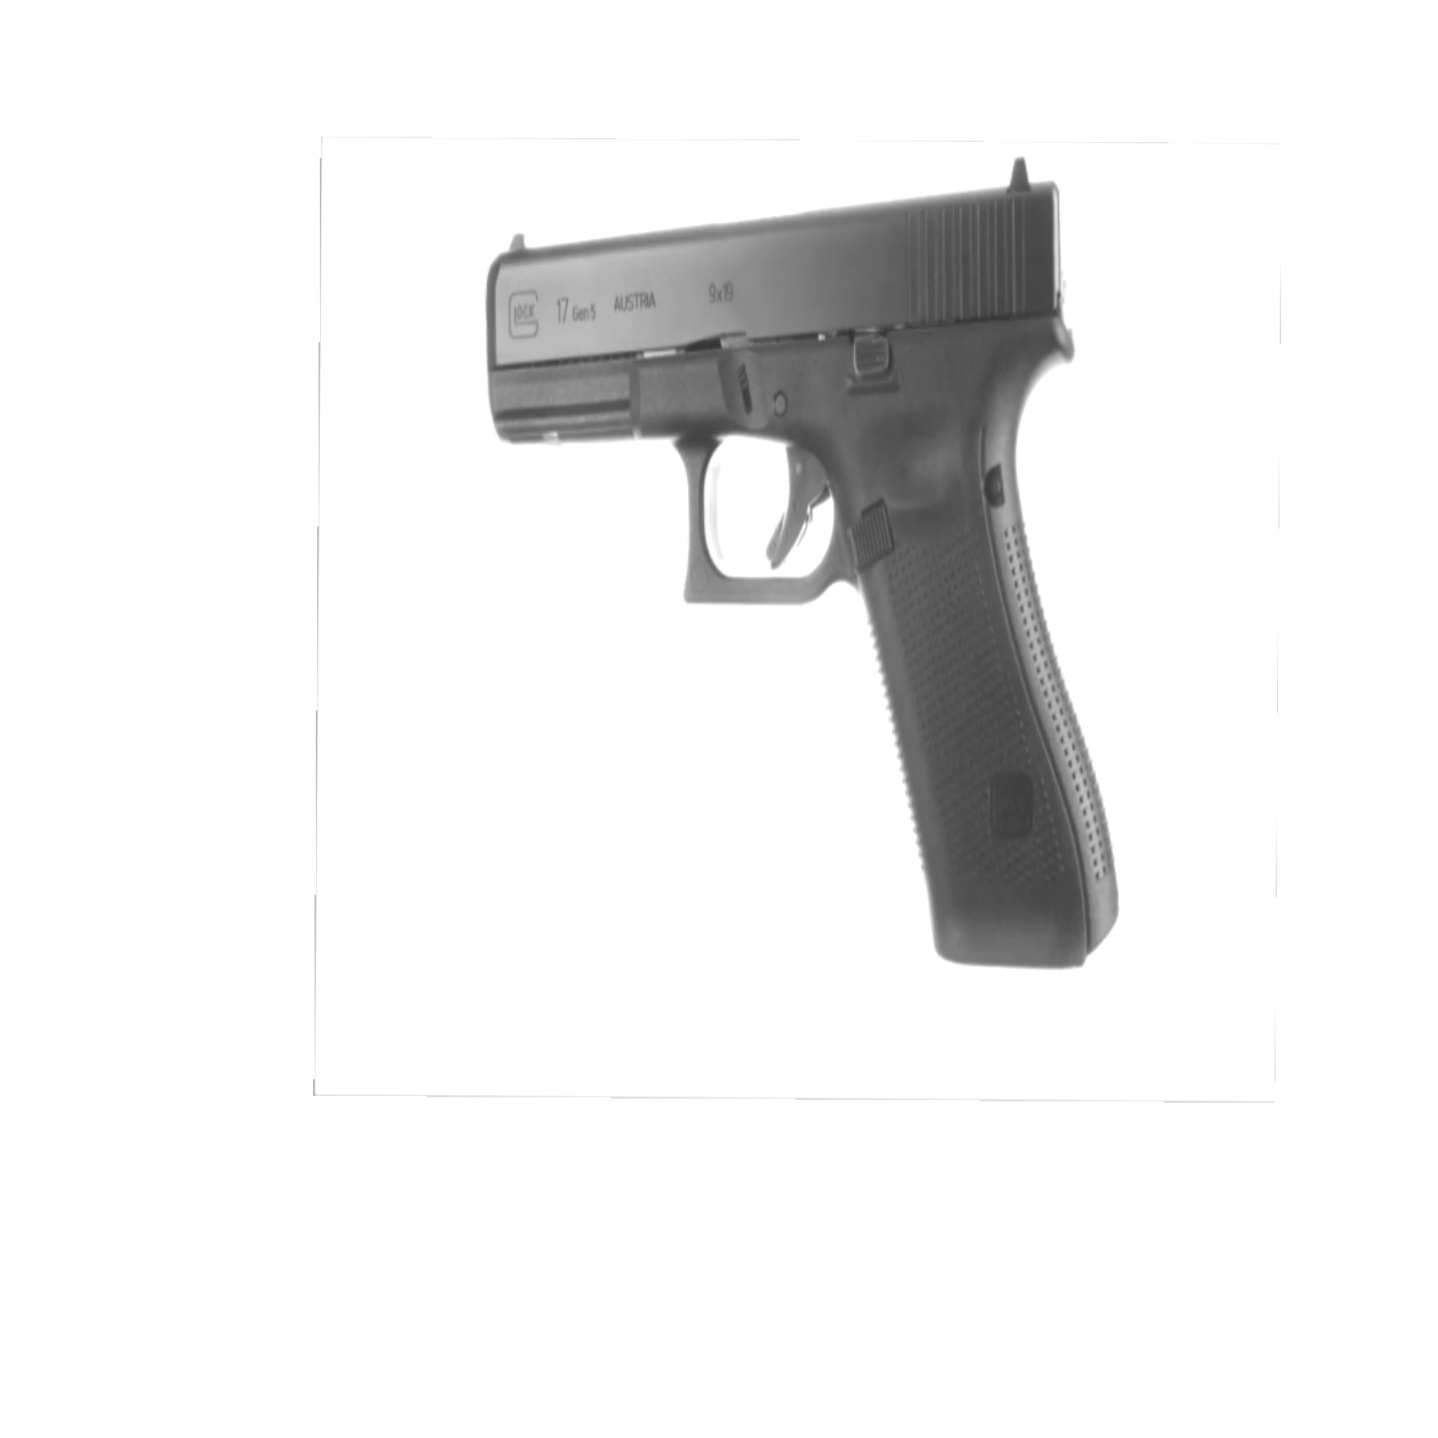gun: (485, 155, 1122, 969)
